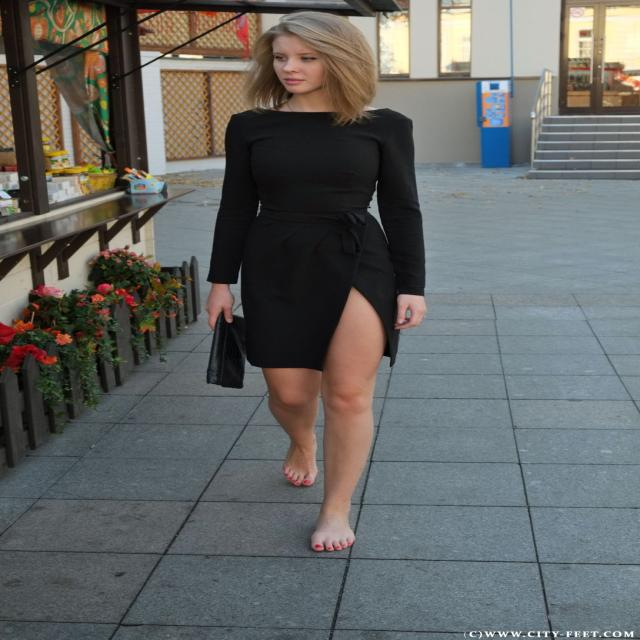No Safety Boots: (311, 505, 355, 551), (283, 432, 318, 486)
